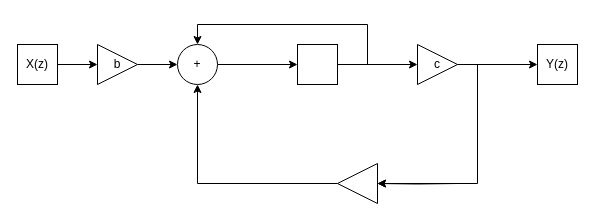
Some shapes in this 595 by 221 pixel diagram are drawn without their labels. Each missing label, with the centre of its shape:
"-a1" belongs at [357,183].
"z -1" belongs at [317,64].
